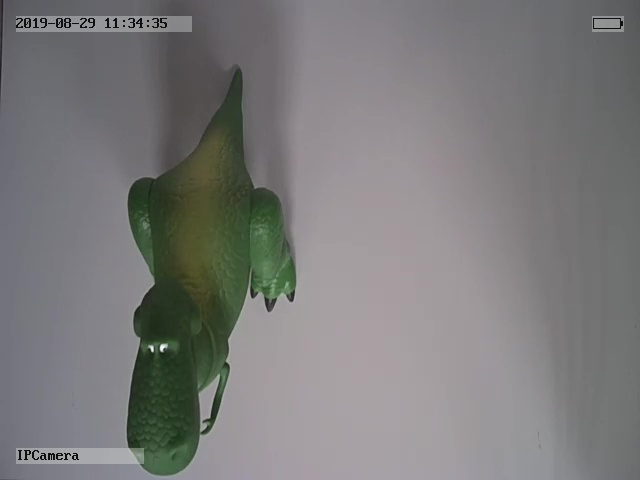rex: (124, 64, 298, 478)
